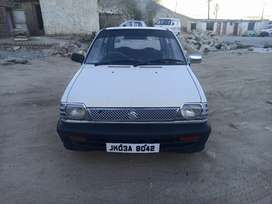JK03A8042: (105, 142, 159, 153)
